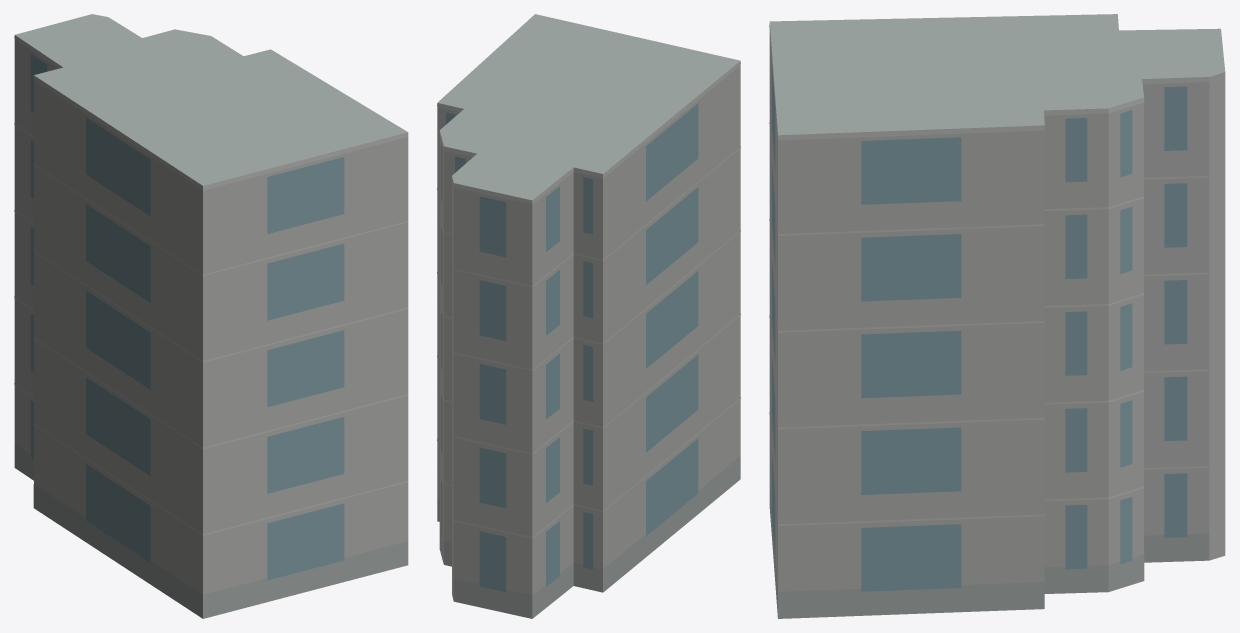
The model's file is survey-upis-32996488.glb.
3 renders of one model, left to right at view 1: azimuth 30°, elevation 25°; view 2: azimuth 150°, elevation 25°; view 3: azimuth 270°, elevation 25°, orthographic. The views are drawn at different scales.
Visible parts, largest first — view 1: survey-upis-32996488.tmp; view 2: survey-upis-32996488.tmp; view 3: survey-upis-32996488.tmp.
Part boxes in pixels (left/top/right/bottom): survey-upis-32996488.tmp: left=14, top=14, right=408, bottom=618; survey-upis-32996488.tmp: left=437, top=14, right=740, bottom=618; survey-upis-32996488.tmp: left=769, top=14, right=1225, bottom=618.
Size of the model in its own units: 12.12 by 22.5 by 19.24.
